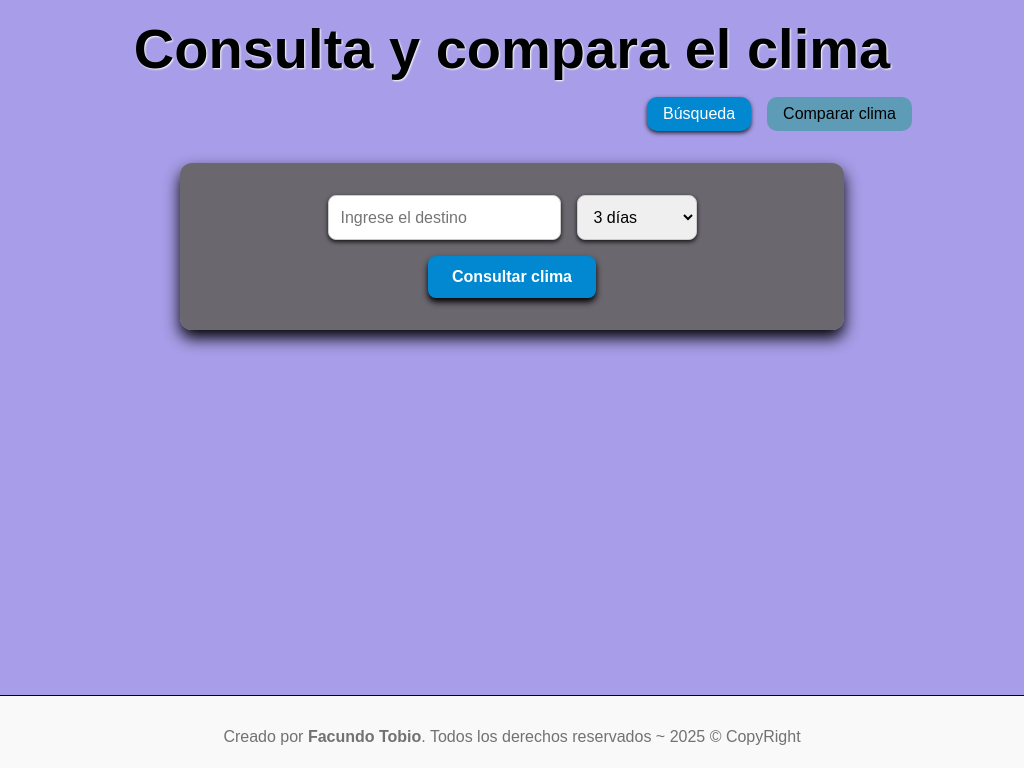
Test: Comparación de clima: errores y validaciones › No permite comparar ciudades iguales
Click the button with test id "boton-comparar": (840, 114) top-left (767, 97), bottom-right (912, 131)
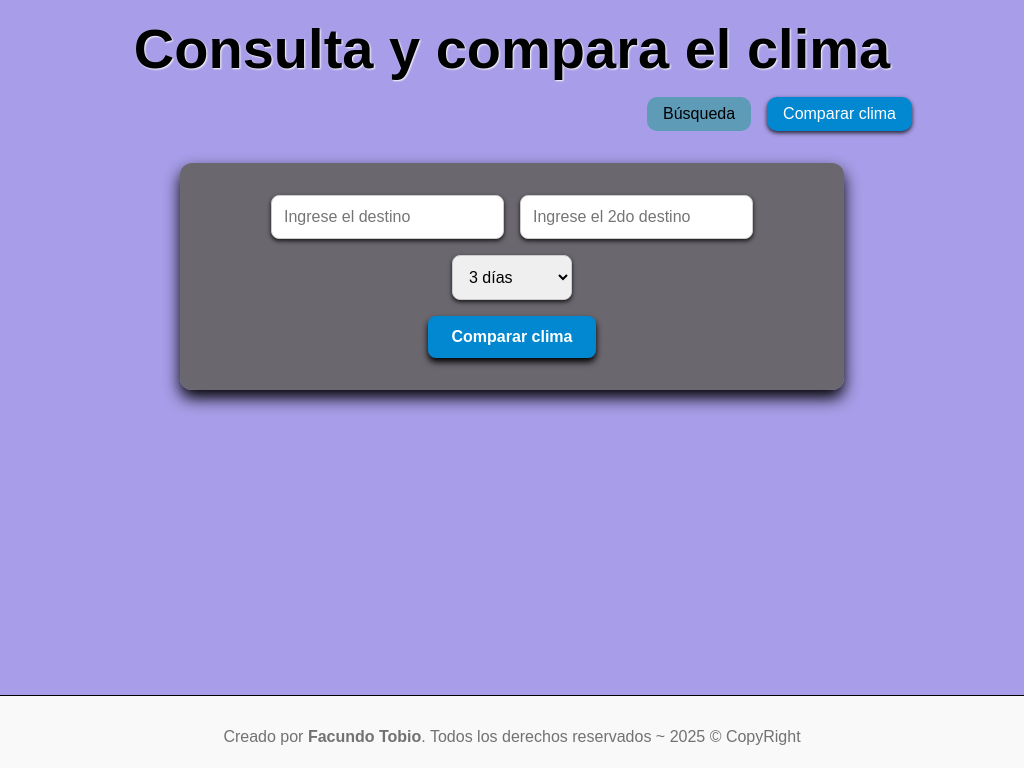
In the field with test id "input-ciudad": (388, 217) top-left (271, 195), bottom-right (504, 239), type "Salta"
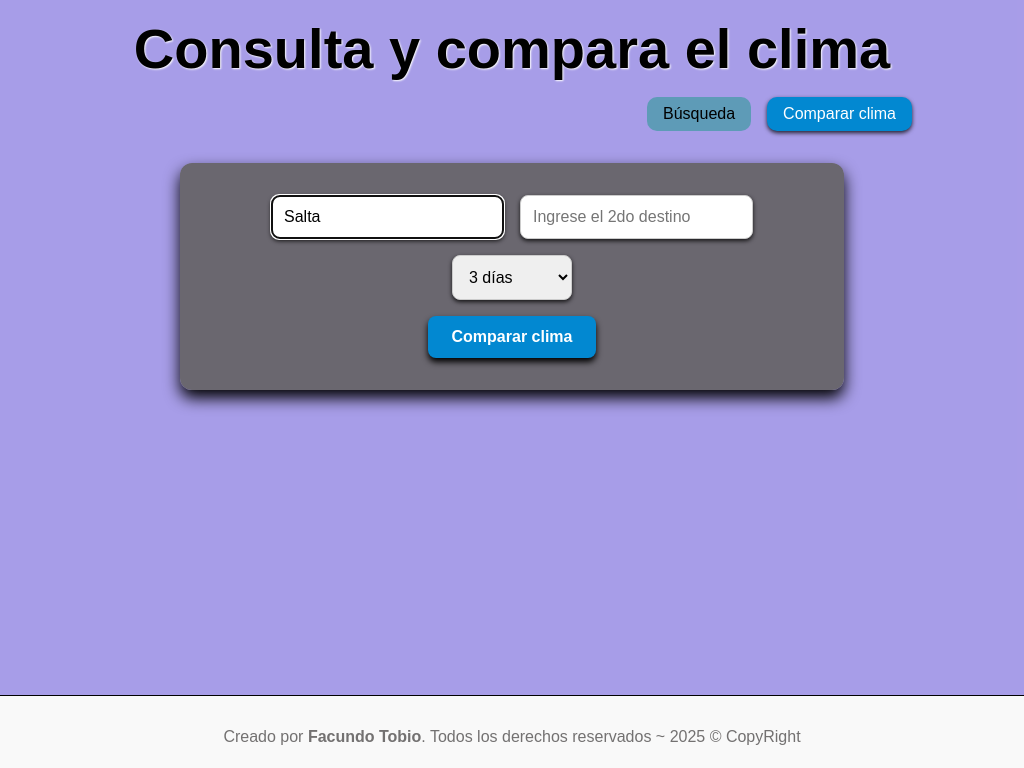
In the field with test id "input-ciudad2": (637, 217) top-left (520, 195), bottom-right (753, 239), type "Salta"
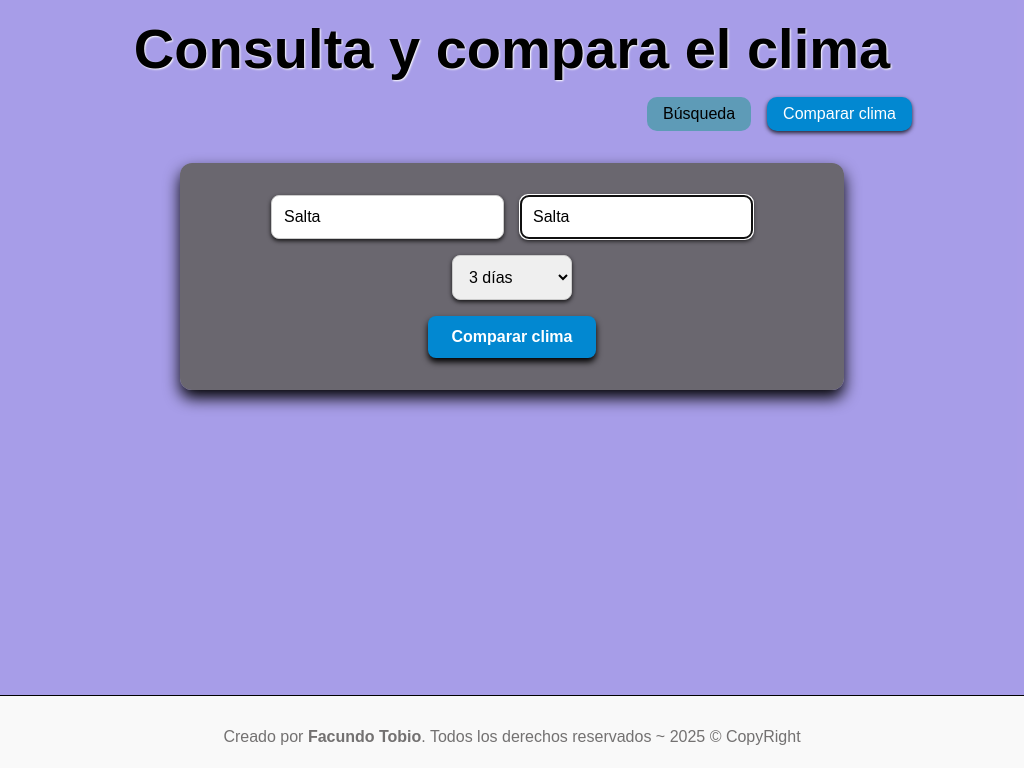
Click the button with test id "boton-submit": (513, 337) top-left (428, 316), bottom-right (597, 358)
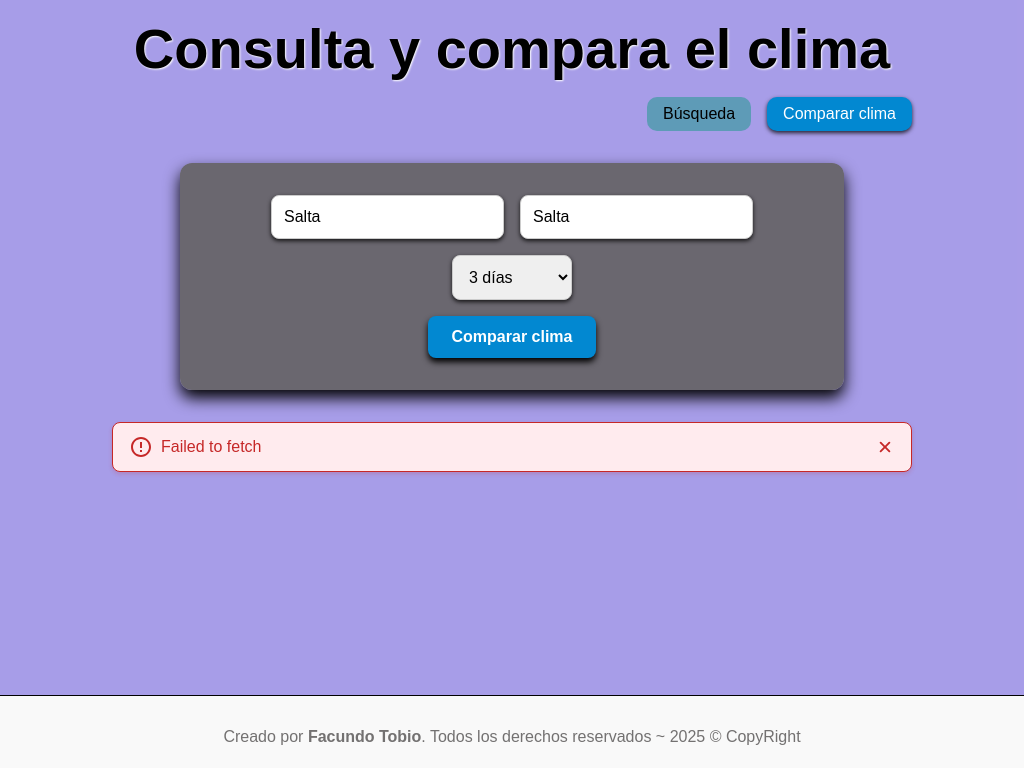
Now the element with test id "error" is shown, box top-left (112, 422), bottom-right (912, 472)
